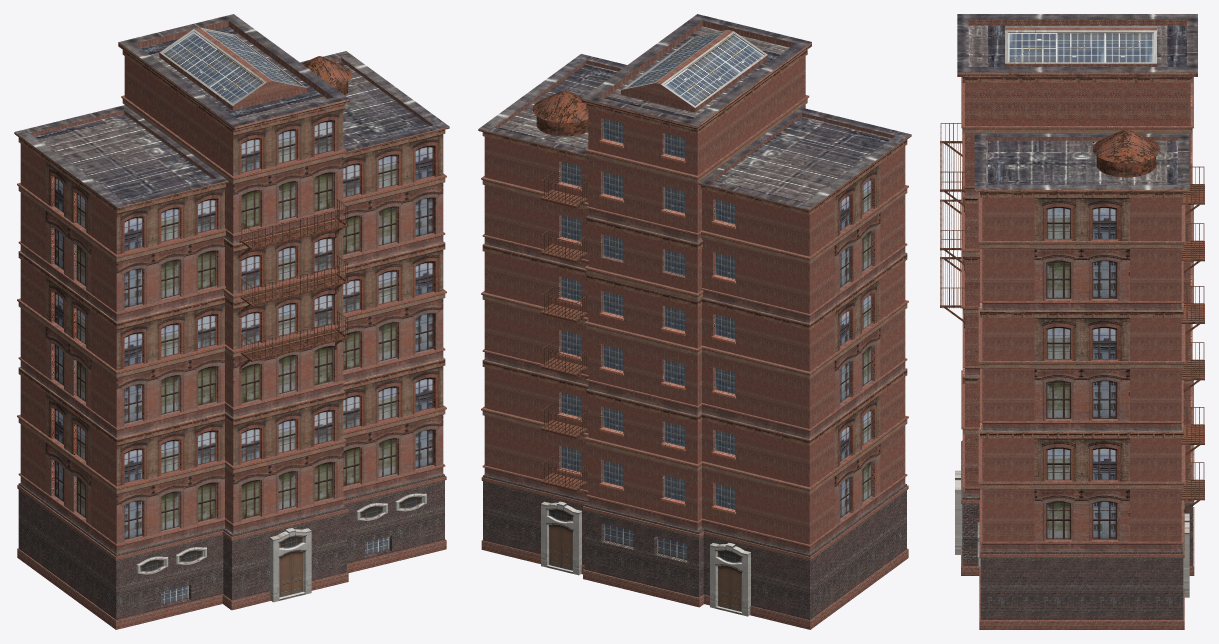
Rendered from Building B.fbx.
3 views of the same model, side by side, from view 1: azimuth 30°, elevation 25°; view 2: azimuth 150°, elevation 25°; view 3: azimuth 270°, elevation 25° (orthographic). The views are drawn at different scales.
Visible parts, largest first — view 1: K_Building_A02_00; view 2: K_Building_A02_00; view 3: K_Building_A02_00.
Boxes of the visible parts, box(x1,y1,x2,y2) form: K_Building_A02_00: box(14, 14, 449, 629); K_Building_A02_00: box(478, 14, 911, 629); K_Building_A02_00: box(940, 14, 1204, 629).
Size of the model in its own units: 2024 by 2904 by 1347.
8 materials, 8 textured.
